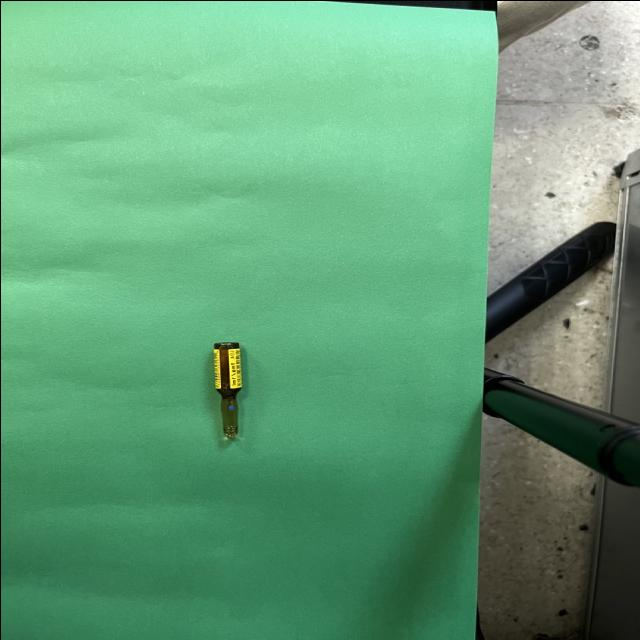Ampoules: (212, 342, 242, 440)
